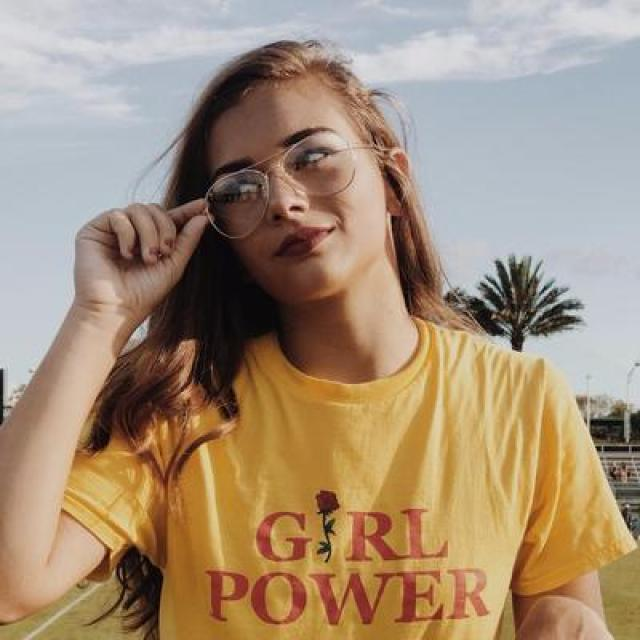human: (6, 25, 638, 640)
